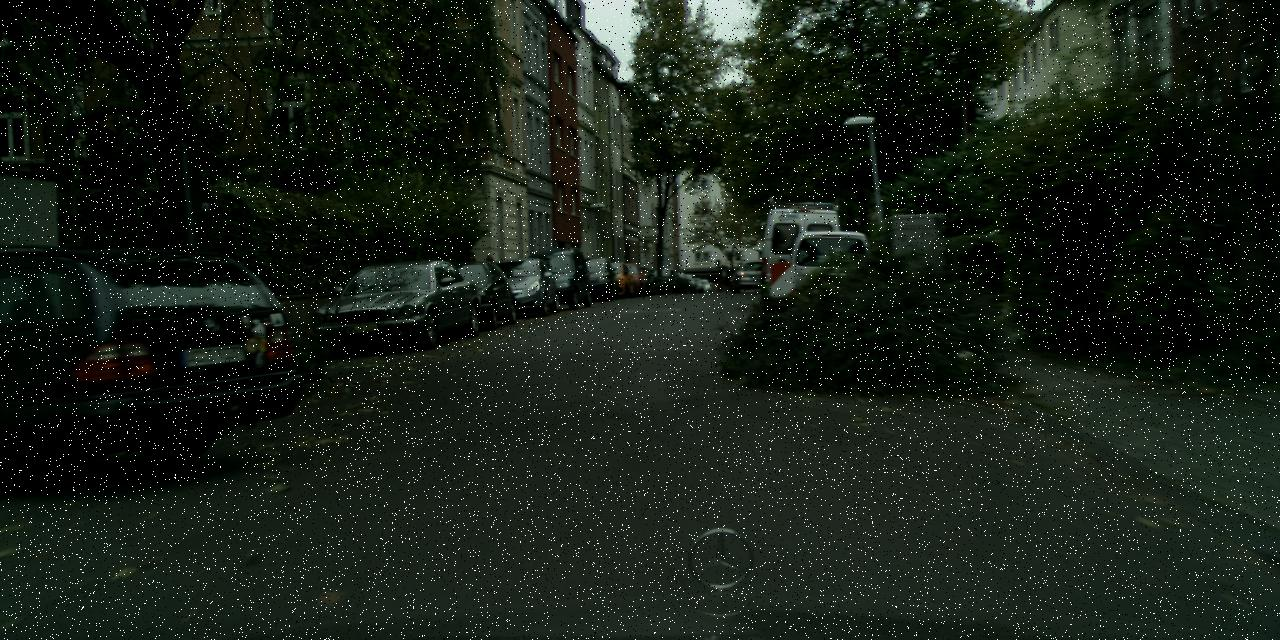ped: (462, 251, 482, 301), (482, 255, 500, 298)
